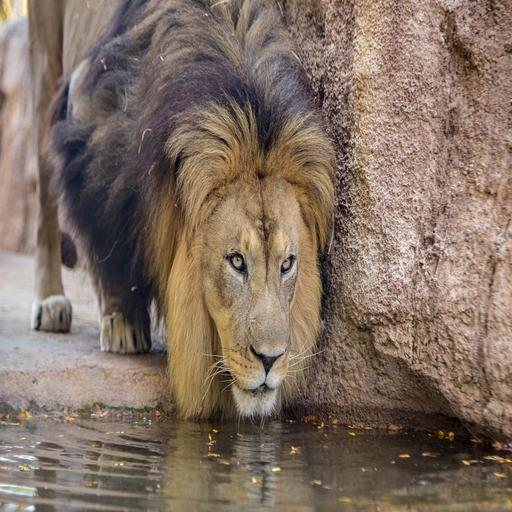Lion: (30, 0, 352, 435)
